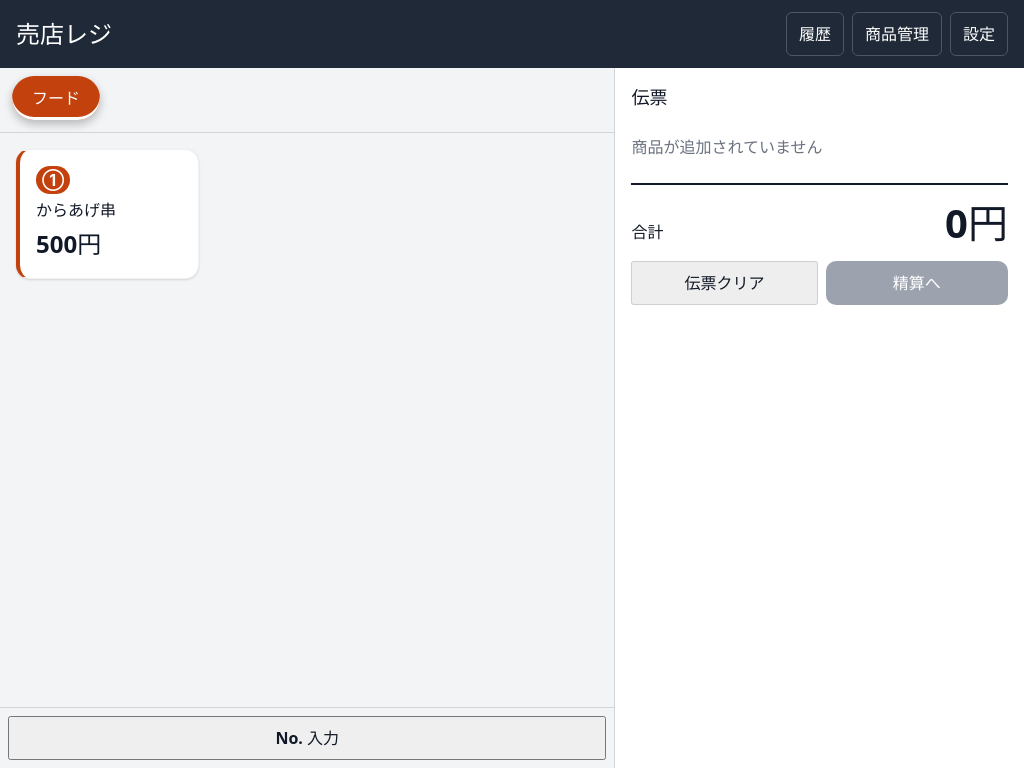
Test case: FR-07: 円割引 › 割引額を入力すると行に反映され、小計が(単価-割引)×個数になる
Click the button with aria-label "からあげ串を追加" at [108, 214], box [16,149,200,279]
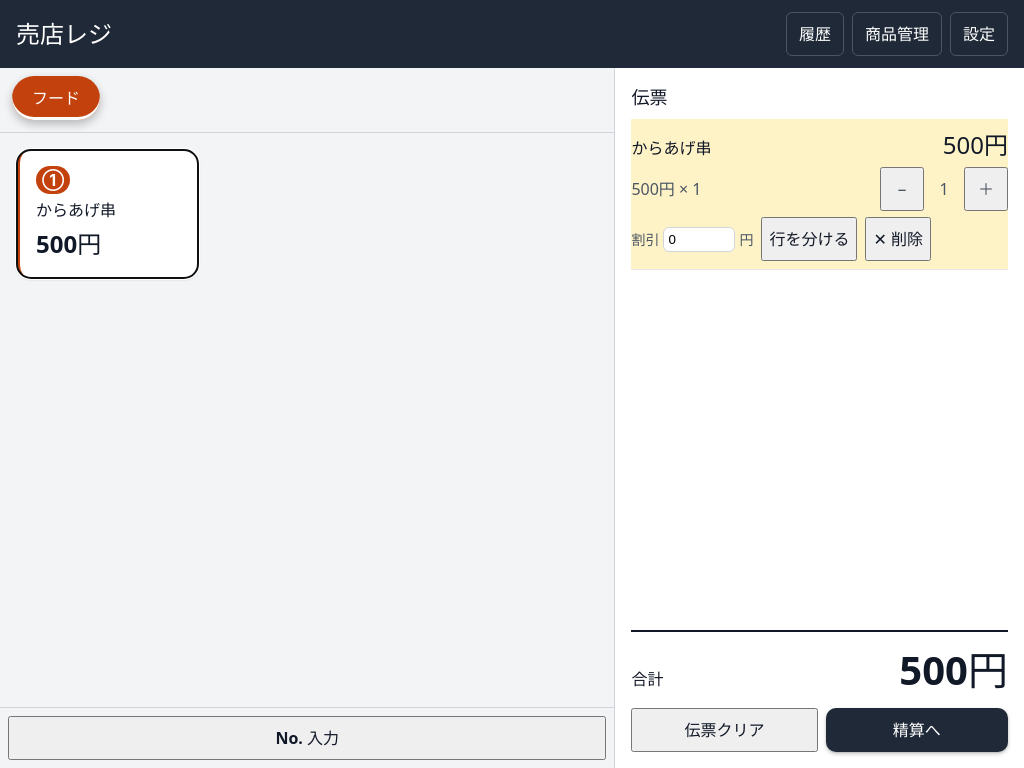
Click the button with aria-label "からあげ串を追加" at [108, 214], box [16,149,200,279]
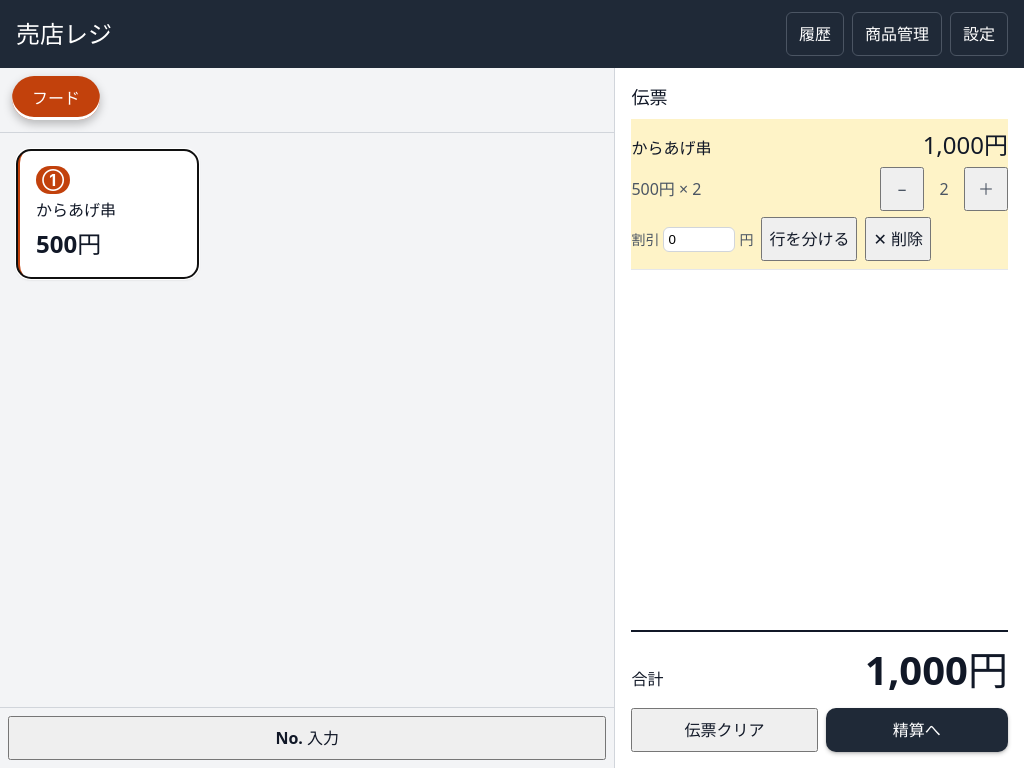
Replace the text in the number field named "からあげ串の割引額" with "50" at [699, 239], box [663,226,735,252]
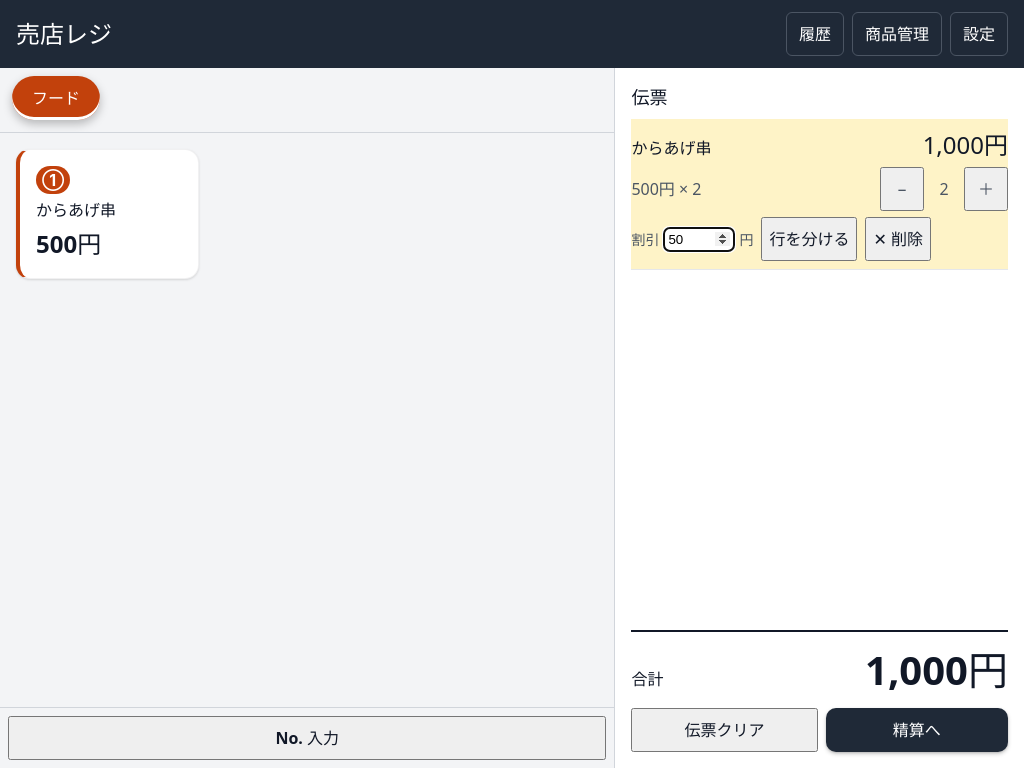
Press Tab
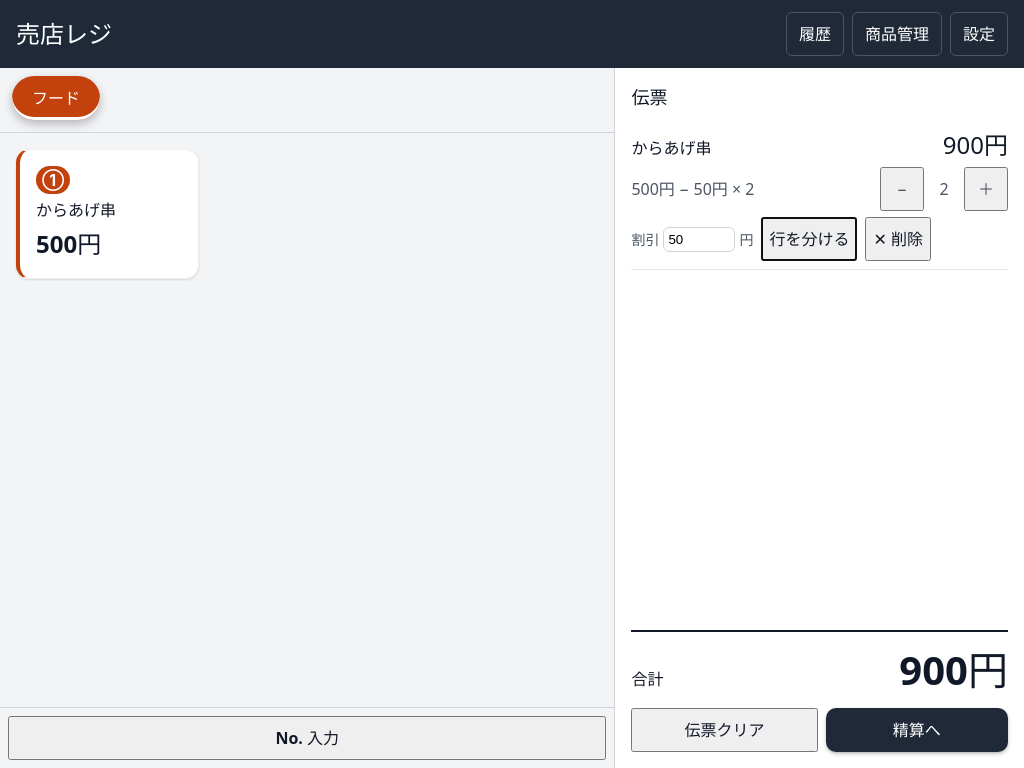
expect the 1st text "900円" is shown: met, box [943,127,1008,163]
